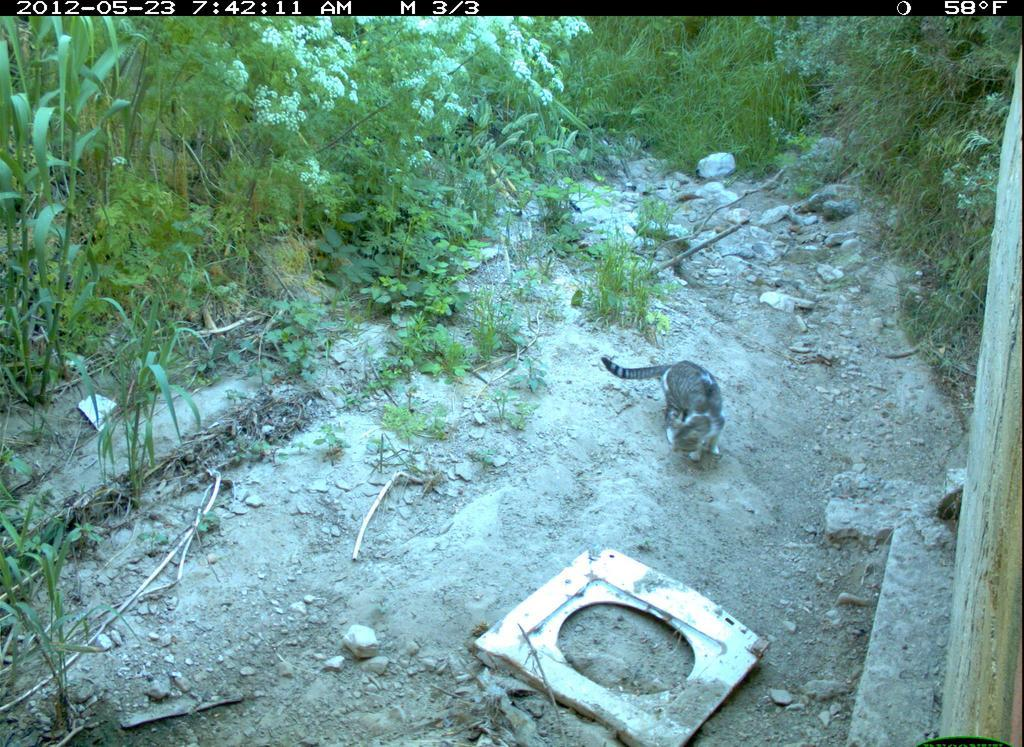cat: (594, 350, 730, 474)
